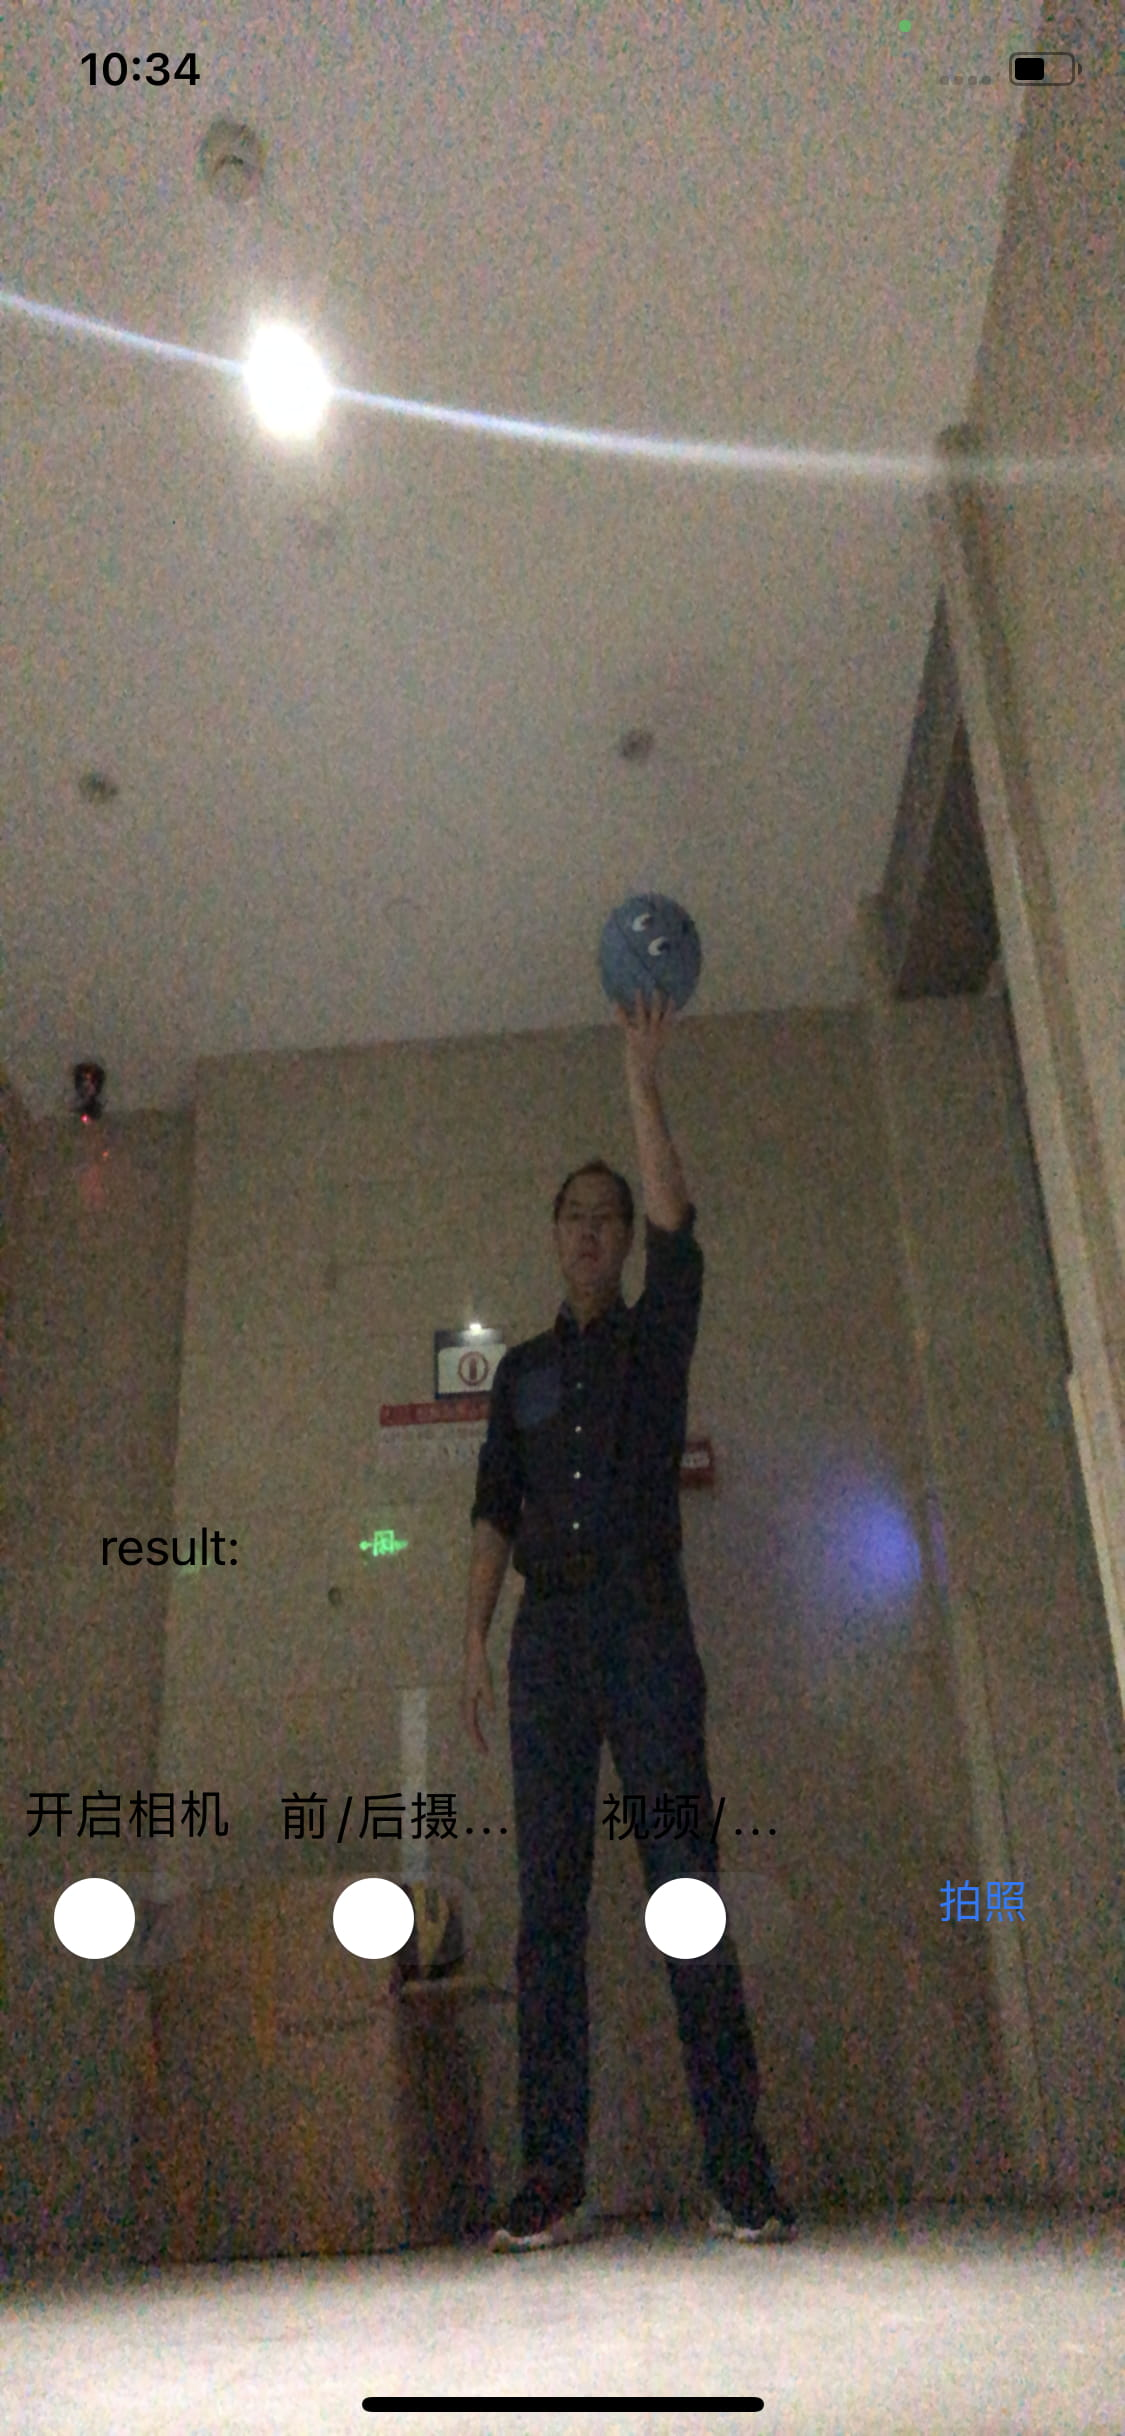ball: (594, 892, 705, 1018)
